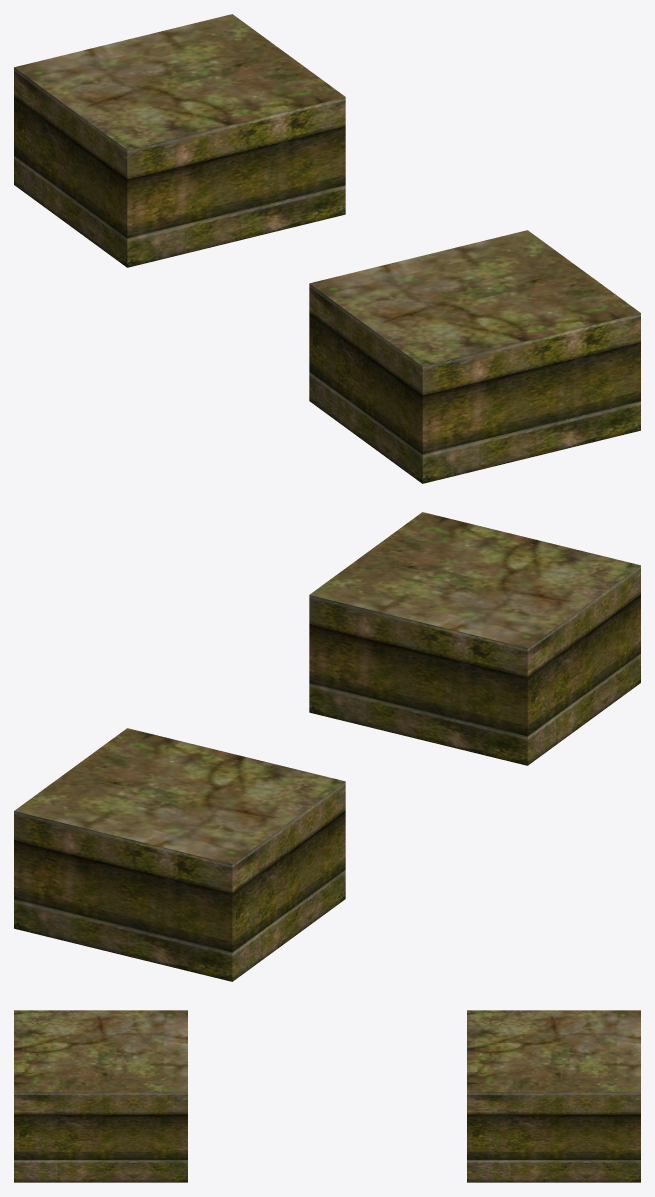
The model's file is OVERHILL_A_01_LINE437.fbx.
3 renders of one model, top to bottom at view 1: azimuth 30°, elevation 25°; view 2: azimuth 150°, elevation 25°; view 3: azimuth 270°, elevation 25°, orthographic. The views are drawn at different scales.
Parts seen in each view (by area): view 1: OVERHILL_A_01_LINE437; view 2: OVERHILL_A_01_LINE437; view 3: OVERHILL_A_01_LINE437.
Boxes of the visible parts, left/top/right/bottom form: OVERHILL_A_01_LINE437: left=14, top=14, right=640, bottom=483; OVERHILL_A_01_LINE437: left=14, top=512, right=640, bottom=981; OVERHILL_A_01_LINE437: left=14, top=1010, right=640, bottom=1182.
Bounding box in the file's own units: 14482 × 7450 × 46908.
Materials: 2 (2 with a texture image).
